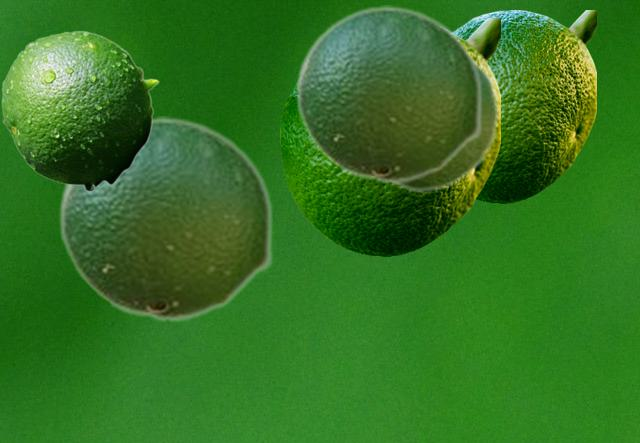dalandan: (280, 18, 499, 255), (58, 116, 273, 322), (295, 5, 482, 184), (453, 10, 595, 202), (1, 30, 158, 191), (387, 57, 499, 193)
